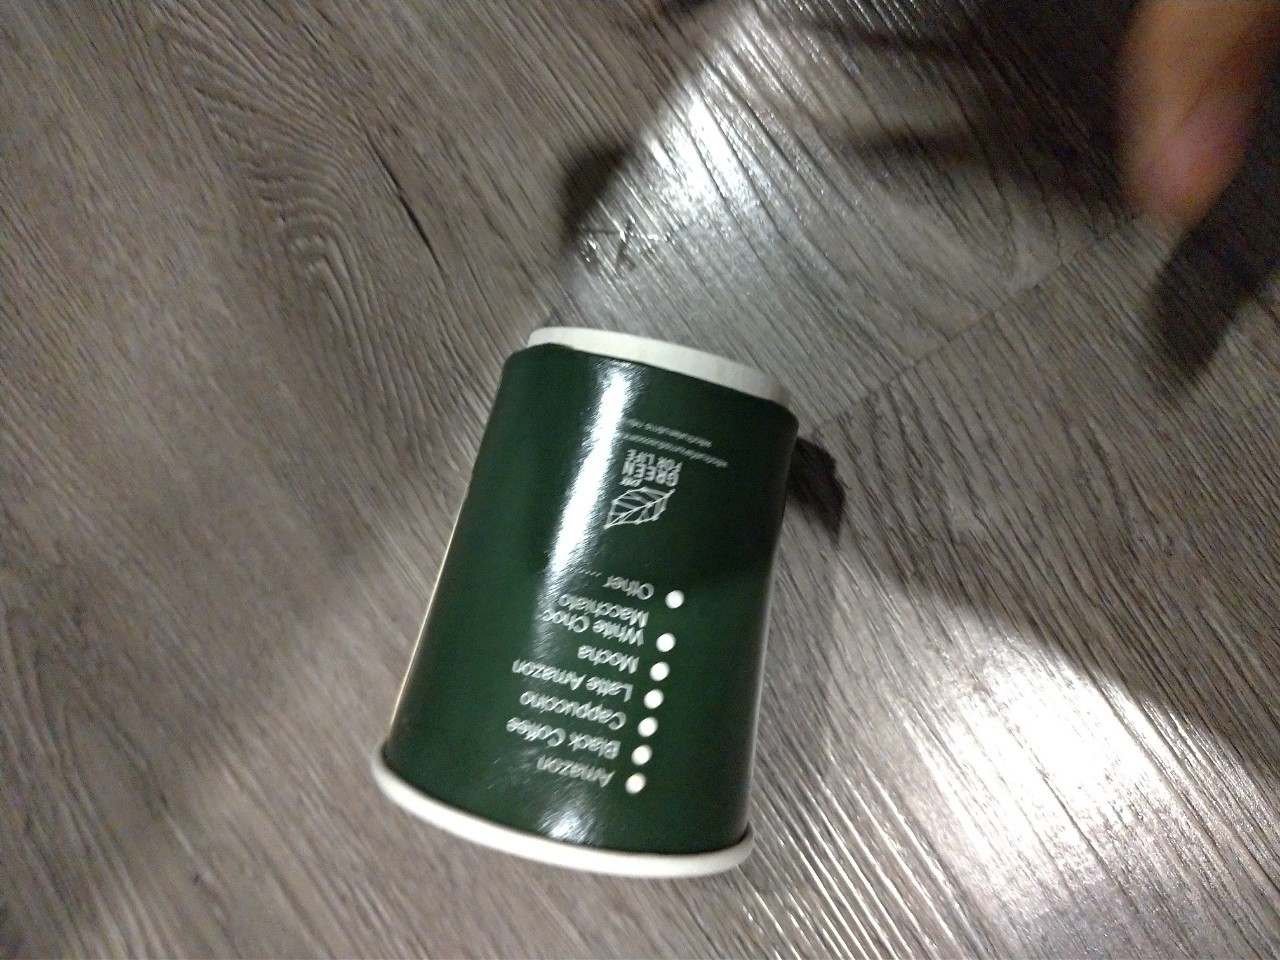PaperCup: (362, 325, 801, 869)
